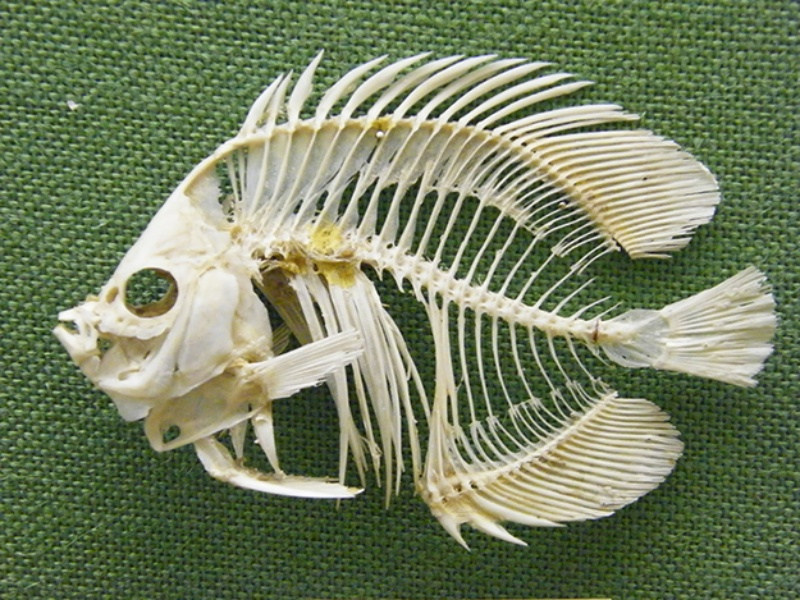Fish_bone_BioD: (46, 35, 786, 568)
